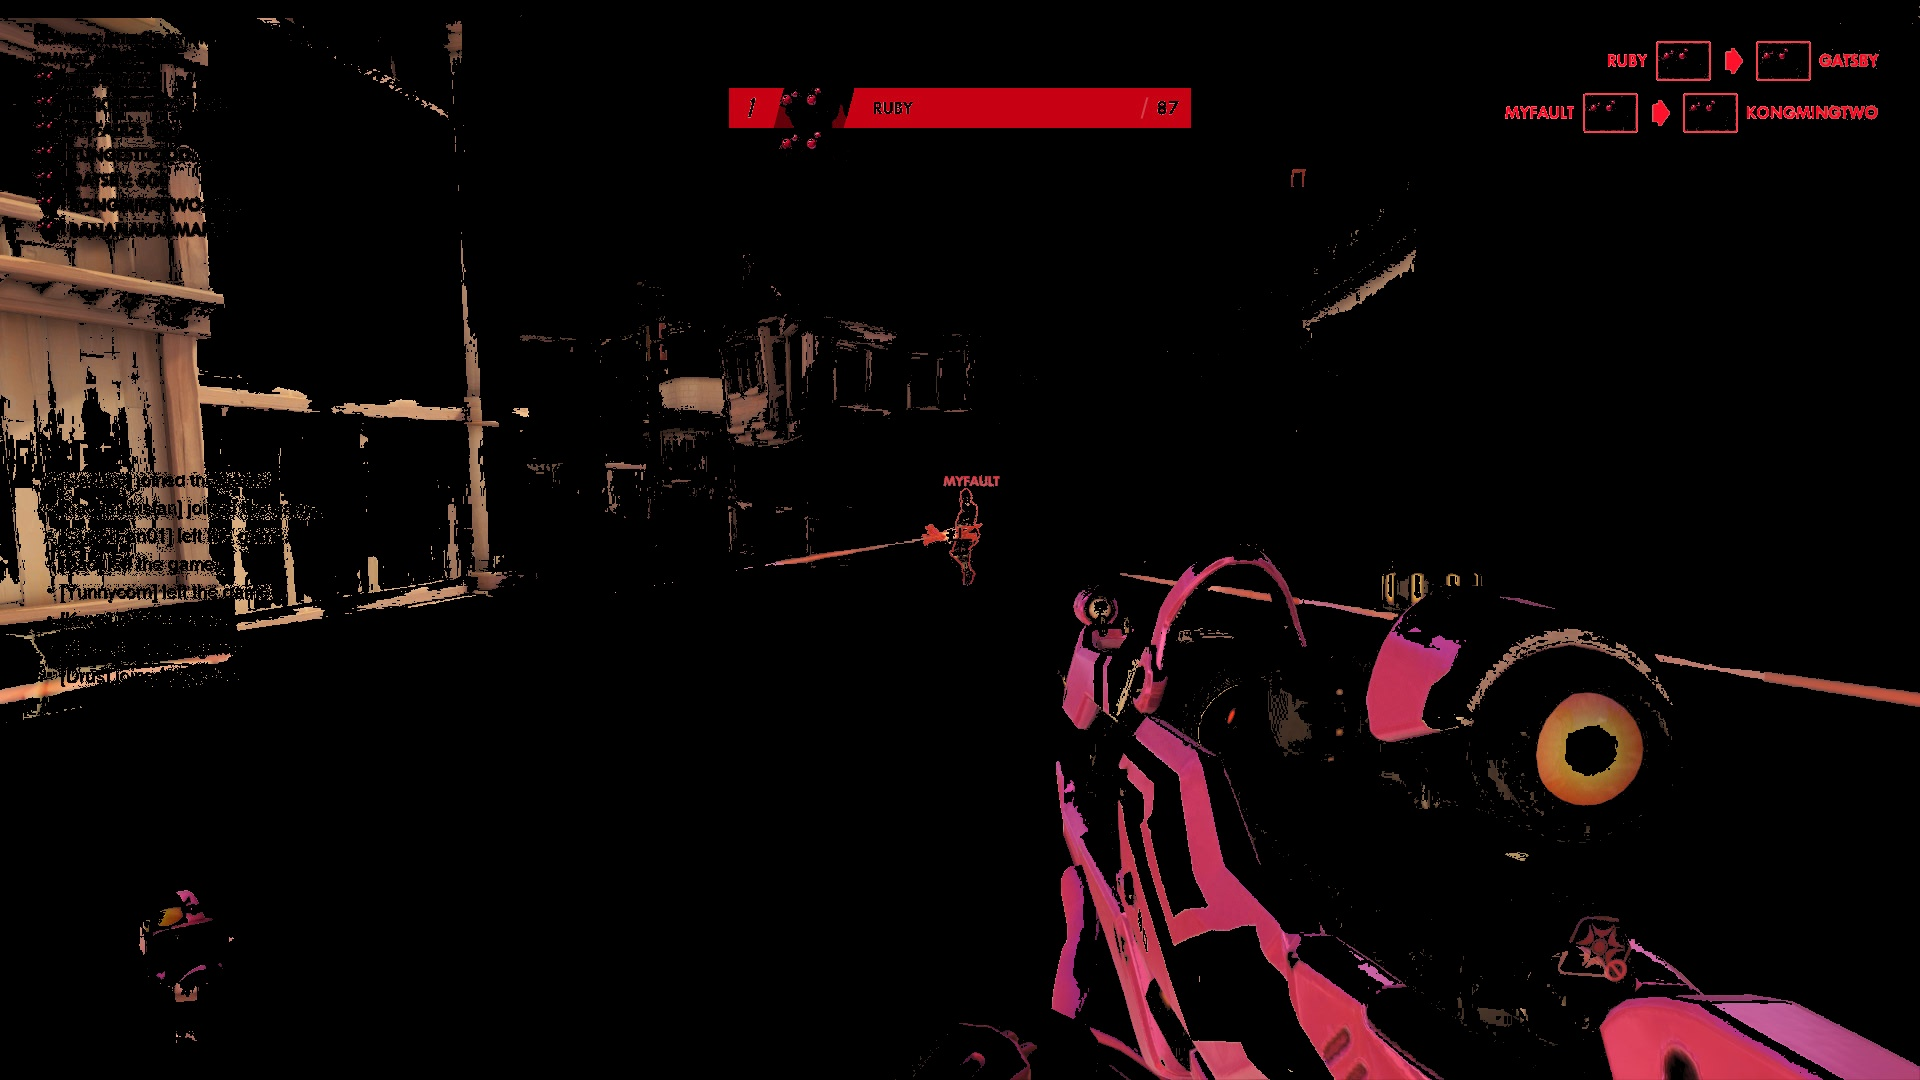widowmaker: (942, 489, 998, 584)
